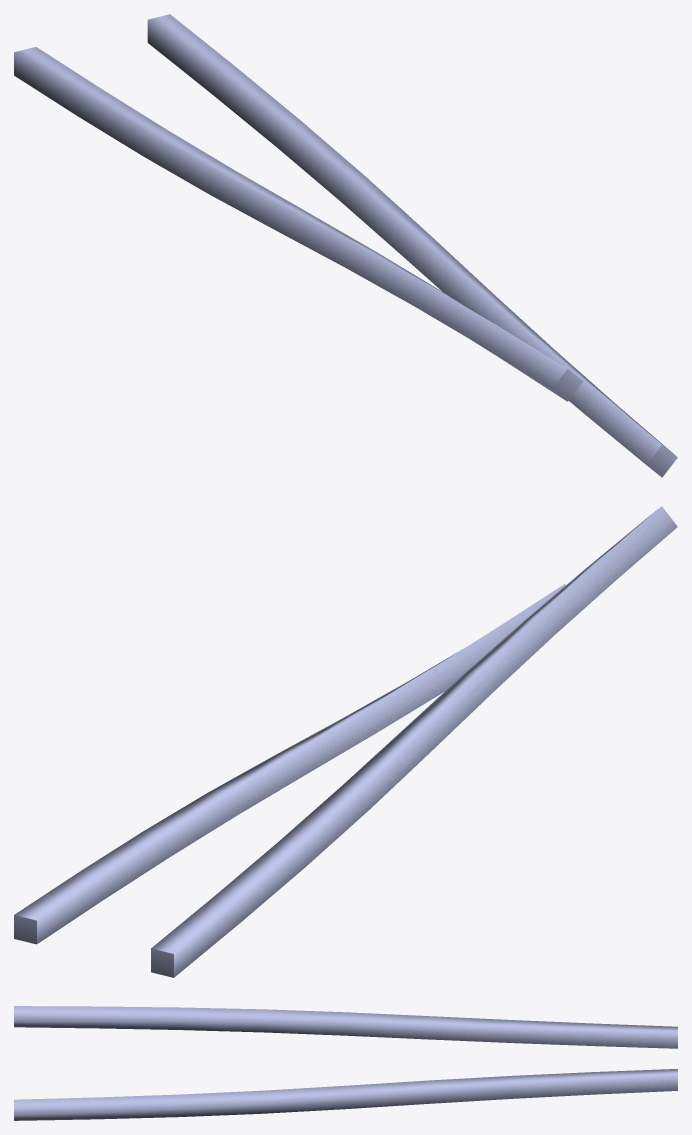
Rendered from railroad-rail-straight-skew-left.glb.
3 views of the same model, one above another, from view 1: azimuth 30°, elevation 25°; view 2: azimuth 150°, elevation 25°; view 3: azimuth 270°, elevation 25° (orthographic). The views are drawn at different scales.
Visible parts, largest first — view 1: railroad-rail-straight-skew-left; view 2: railroad-rail-straight-skew-left; view 3: railroad-rail-straight-skew-left.
Part boxes in pixels (left/top/right/bottom): railroad-rail-straight-skew-left: left=14, top=14, right=677, bottom=477; railroad-rail-straight-skew-left: left=14, top=506, right=677, bottom=977; railroad-rail-straight-skew-left: left=14, top=1006, right=677, bottom=1120.
Bounding box in the file's own units: 0.714 × 0.5657 × 4.
1 material, 1 textured.
